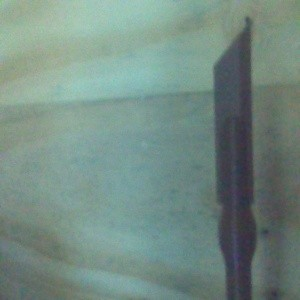cutter: (211, 17, 258, 300)
